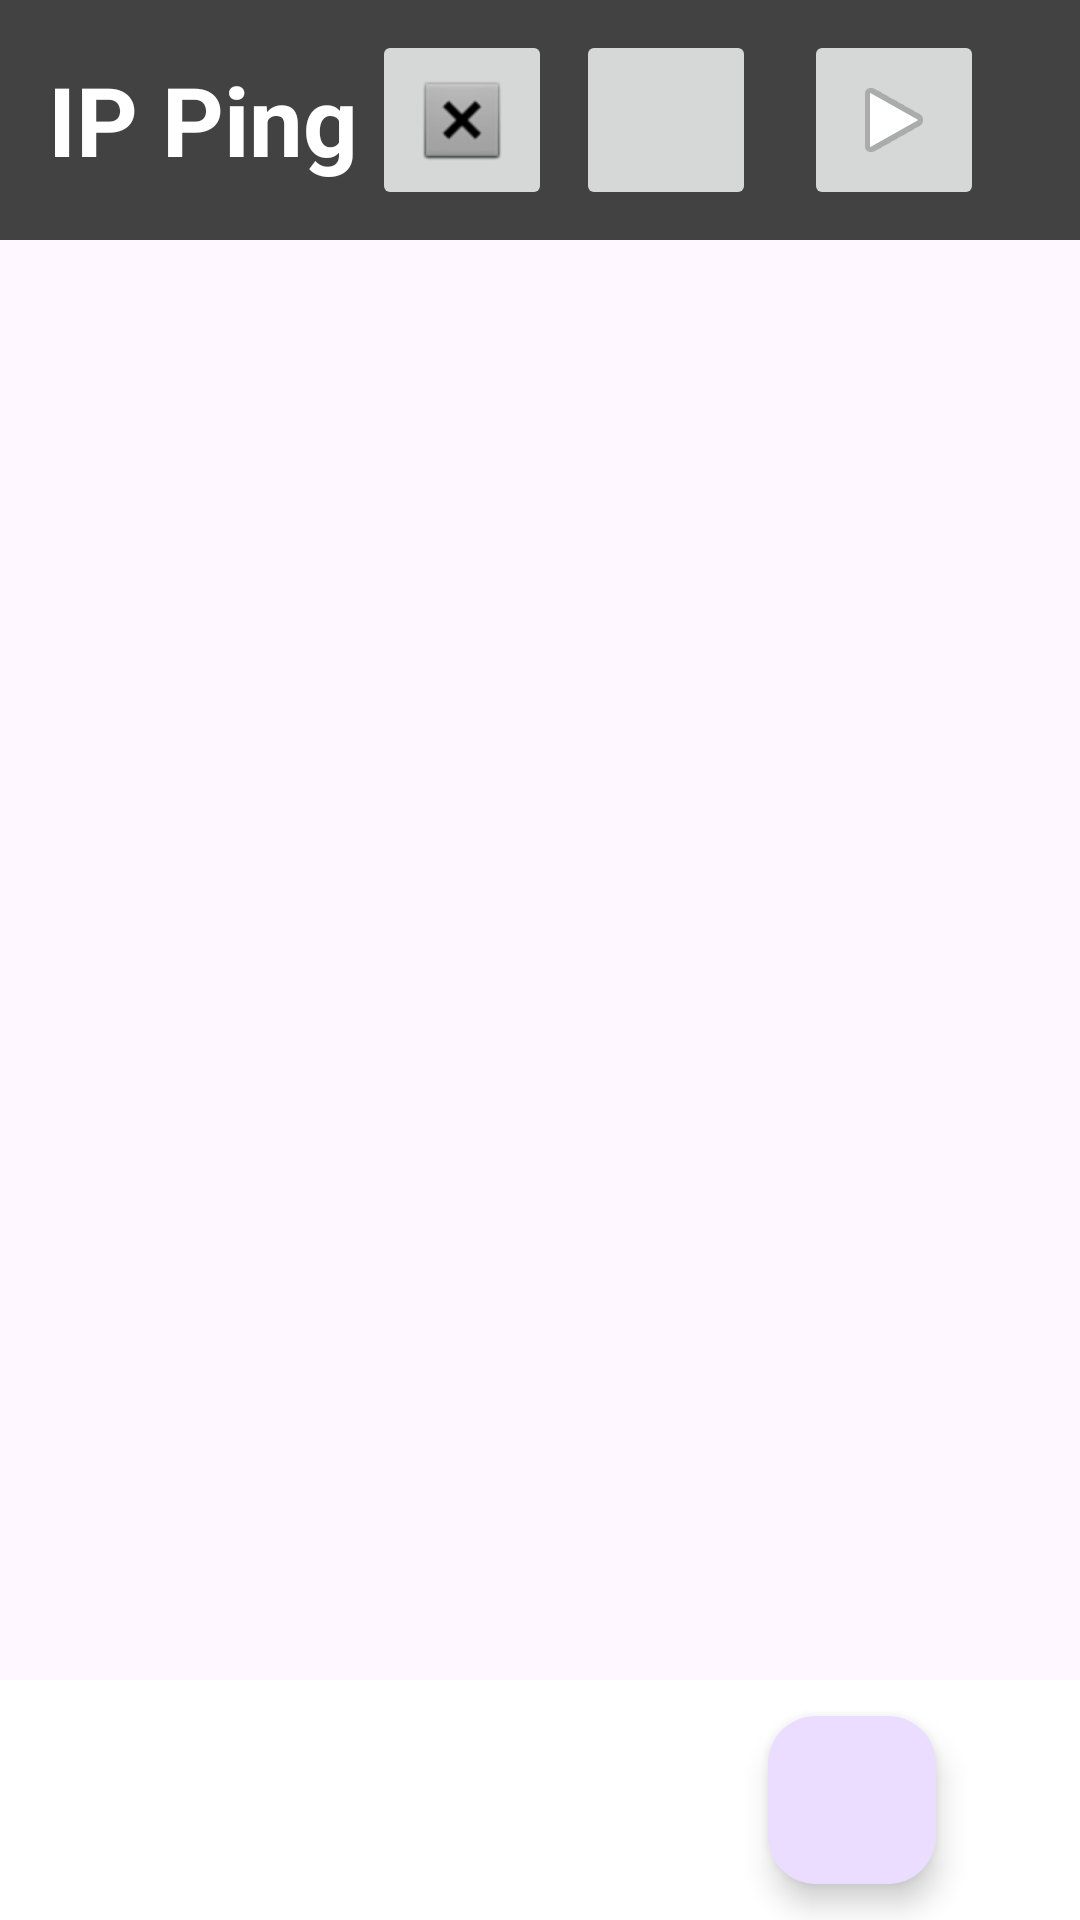

Screen size 1080px×1920px. Icon name, then its center in pixels as [x,y]:
Starts to ping the server: [894,120]
